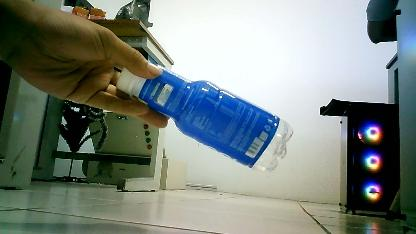Plastic Bottle: (112, 56, 294, 172)
